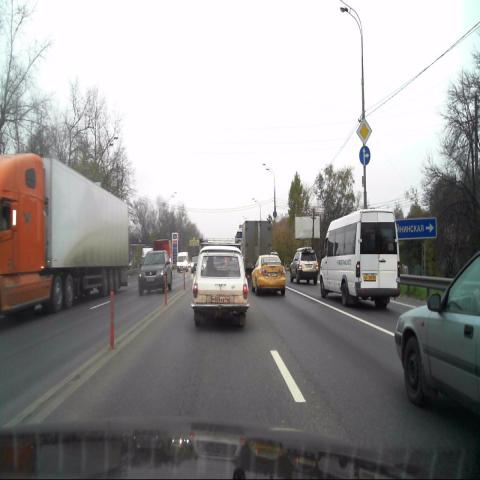4_1_4: (359, 145, 370, 165)
